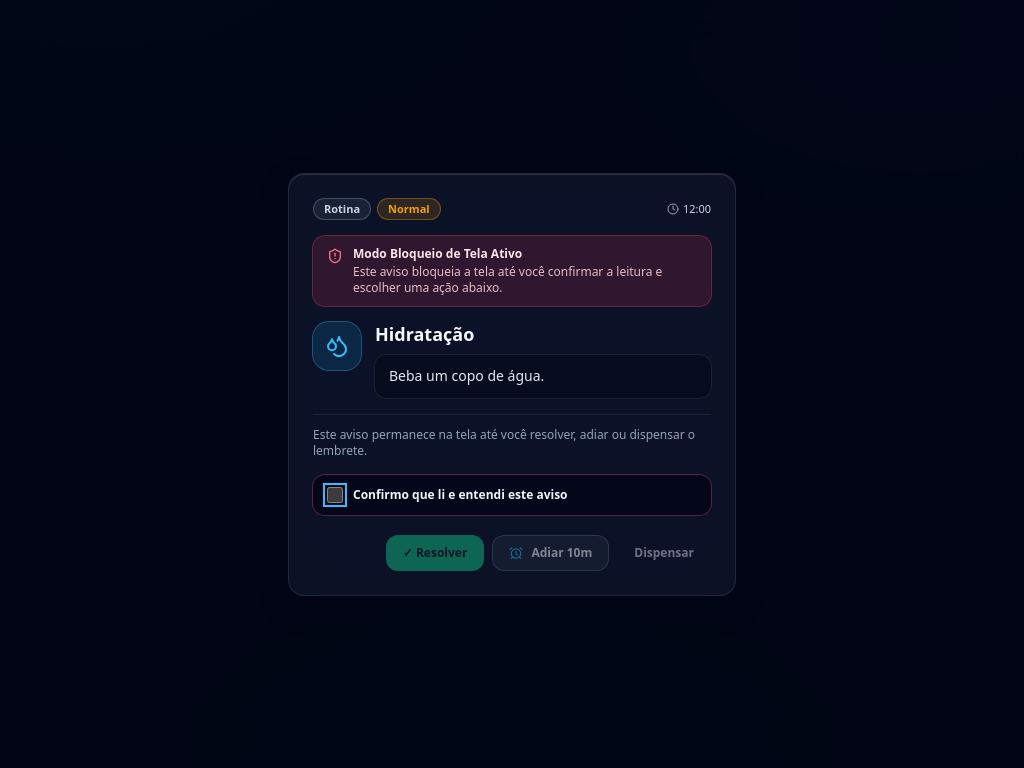
Test: ReminderModal › requires confirming read in locked mode before unlock actions enable and resets per alert
Later steps or results of the test are not shown.
Expected: the text "Modo Bloqueio de Tela Ativo" is shown, [353,245,522,262]
Expected: the button "✓ Resolver" is disabled, [386,534,484,570]
What coordinates should you click on to do the following:
click the checkbox with test id "confirm-read-checkbox"
I would click on:
 (335, 494)
Its box is [327,486,343,502].
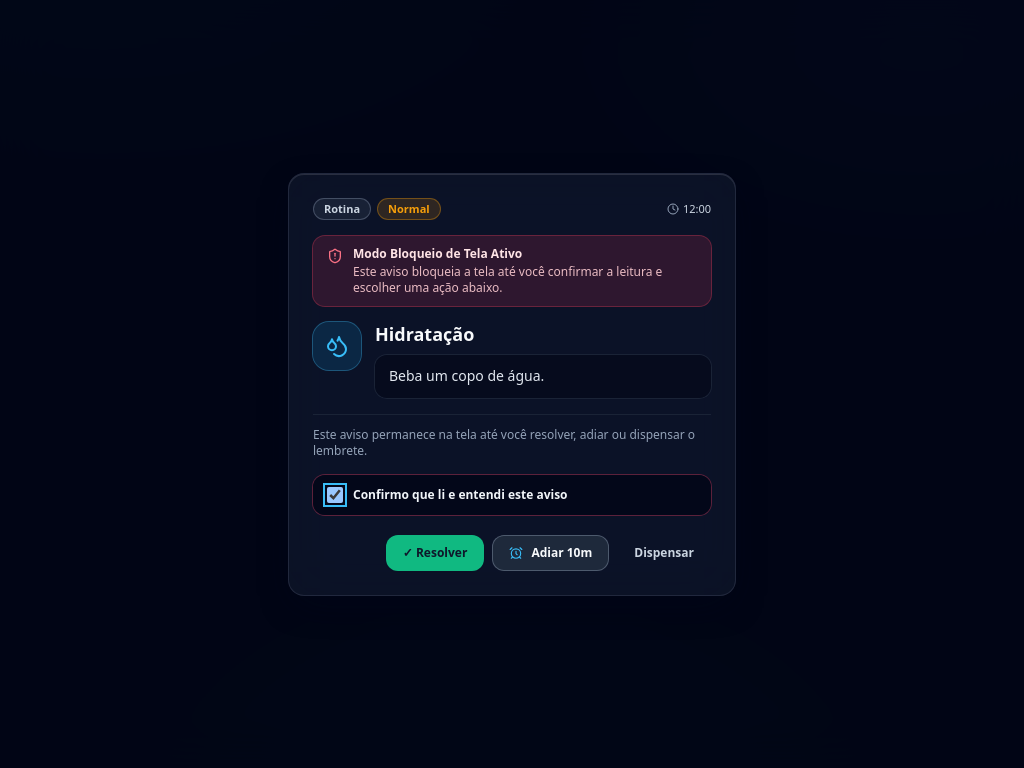
Result: the checkbox with test id "confirm-read-checkbox" is checked at [327,486,343,502]
Result: the button "✓ Resolver" is enabled at [386,534,484,570]
